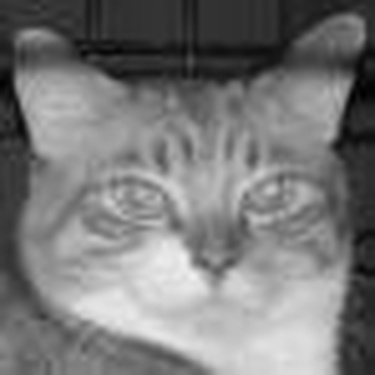cat: (7, 18, 355, 363)
